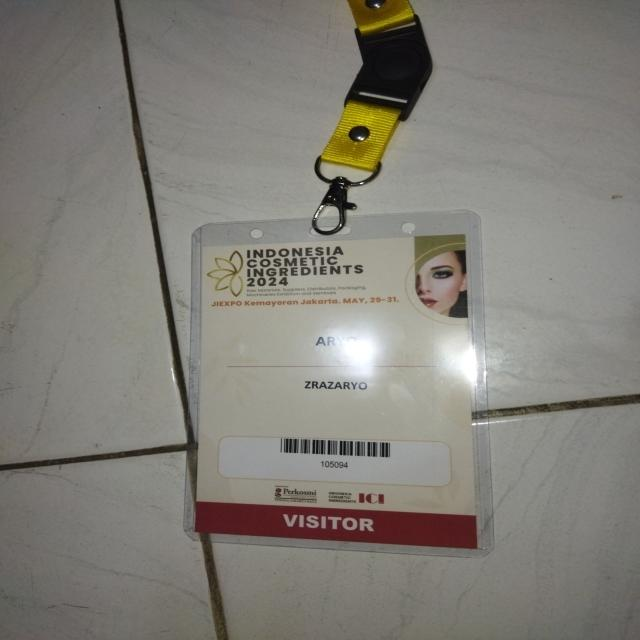ID_card: (185, 209, 492, 556)
